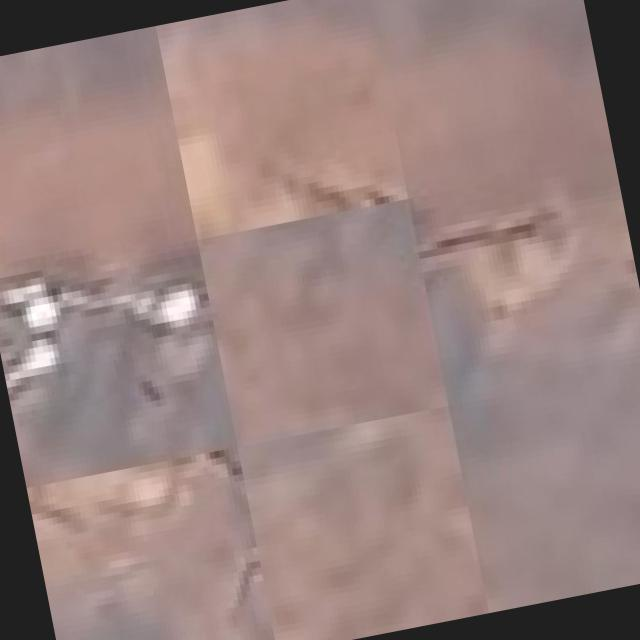crack: (424, 180, 554, 296)
